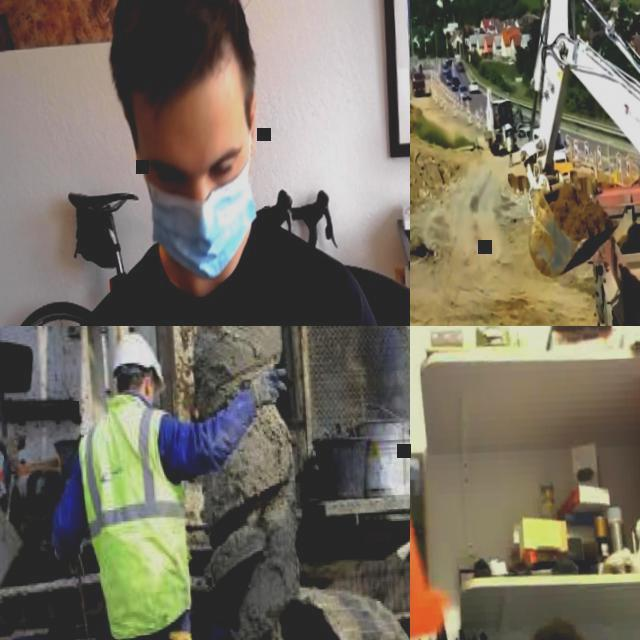helmet: (114, 331, 166, 392)
machinery: (0, 326, 410, 640), (512, 0, 640, 326), (588, 179, 640, 326), (480, 85, 524, 156), (411, 71, 425, 98)
mask: (142, 152, 262, 282)
no_helmet: (103, 0, 248, 88), (520, 621, 595, 640)
no_vest: (95, 234, 361, 326)
person: (24, 0, 410, 326), (41, 326, 313, 640), (311, 326, 410, 417), (506, 132, 512, 168), (495, 110, 500, 127)
safety_cone: (410, 383, 449, 640)
vehicle: (534, 126, 567, 176), (515, 124, 532, 150), (458, 85, 468, 102), (450, 78, 460, 92), (468, 82, 478, 95), (443, 75, 453, 86), (457, 62, 464, 73), (444, 64, 451, 74), (446, 58, 448, 64)
vest: (74, 392, 196, 640), (506, 138, 512, 151)
